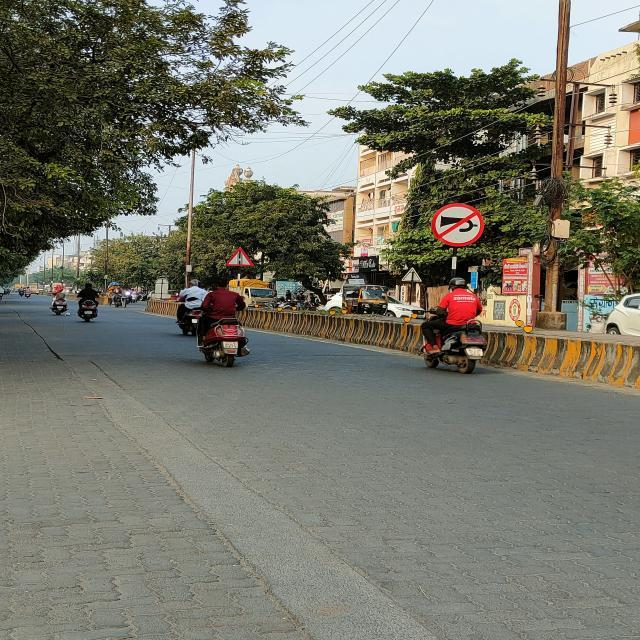horn prohibited: (431, 203, 485, 247)
